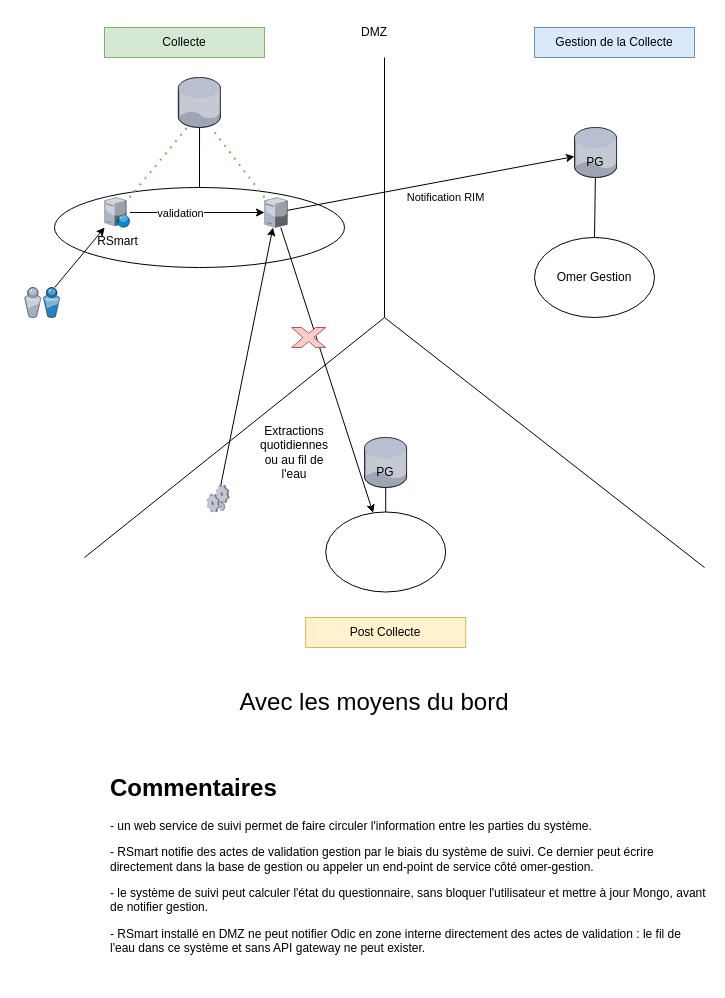
Some shapes in this 725 by 998 pixel diagram are drawn without their labels. The shapes that lost their labels are listed below. From the top down, each one's box as (x1, y1, x2, y2) in pixels, then its label:
(178, 77, 220, 127): Mongo
(264, 197, 287, 227): Service de suivi
(24, 287, 59, 317): Enquêtés
(325, 511, 446, 592): Odic
